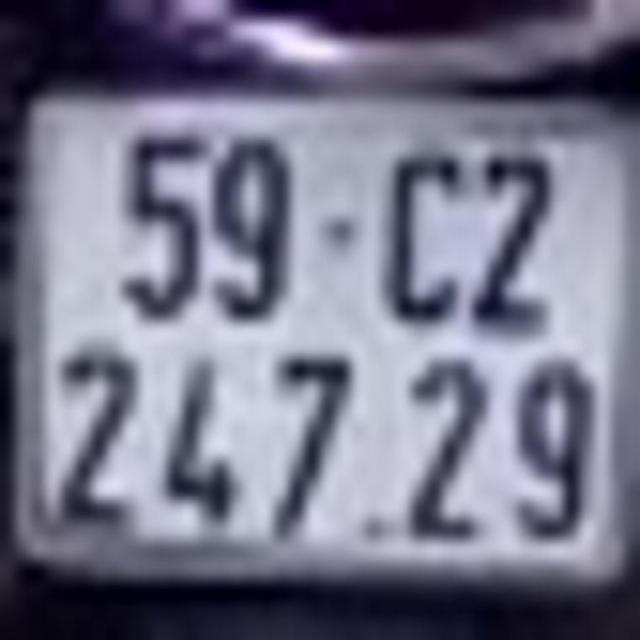2: (54, 338, 148, 529), (398, 345, 485, 545), (466, 142, 555, 334)
4: (160, 338, 243, 548)
5: (119, 127, 200, 320)
7: (250, 344, 351, 555)
9: (504, 346, 594, 545), (211, 127, 293, 331)
C: (384, 142, 461, 326)
